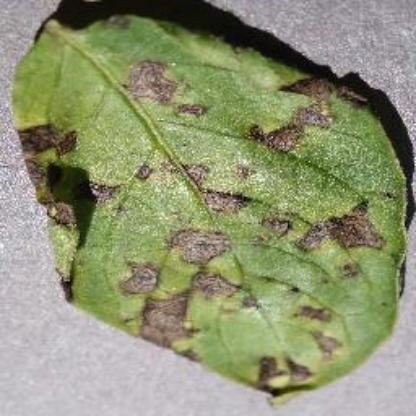Early-Blight: (12, 8, 414, 400)
